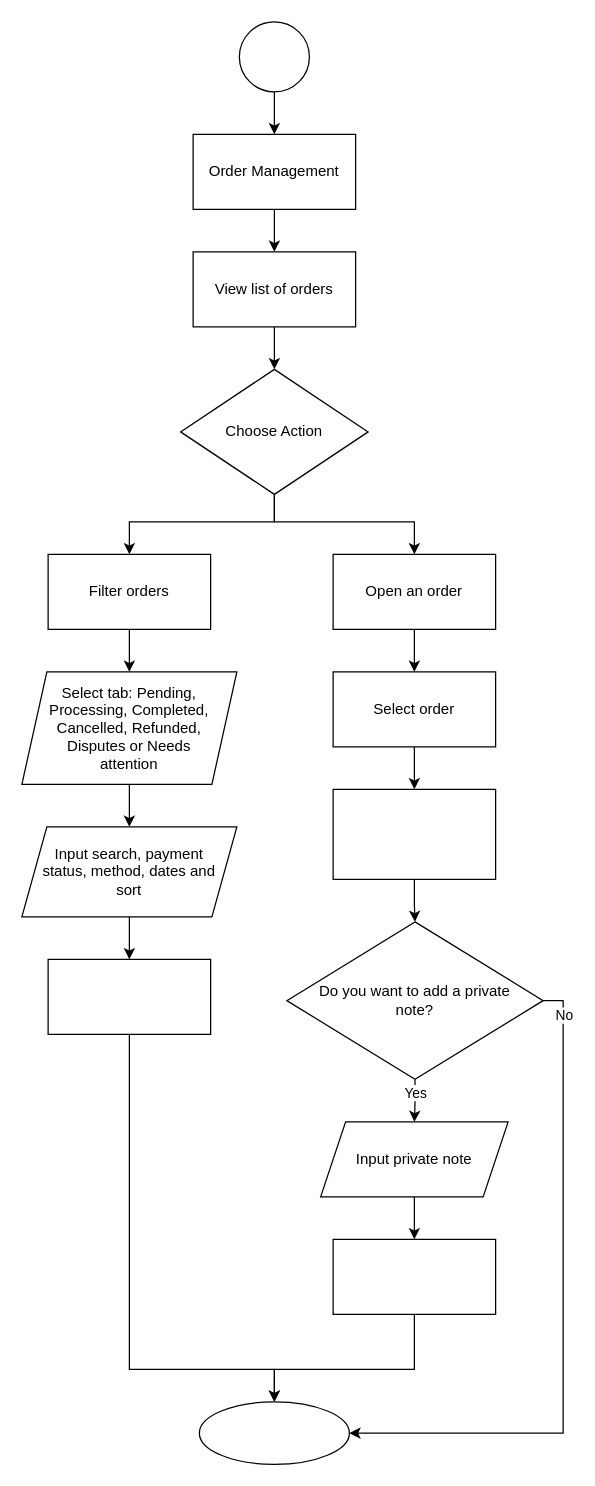
This 595x1486 diagram has some shape labels left out. Each missing label, with the centre of its shape:
"End" goes at (273,1432).
"ORM" goes at (273,56).
"Save note" goes at (414,1276).
"Show matching orders" goes at (129,996).
"View Overview, Timeline and Disputes" goes at (414,833).
